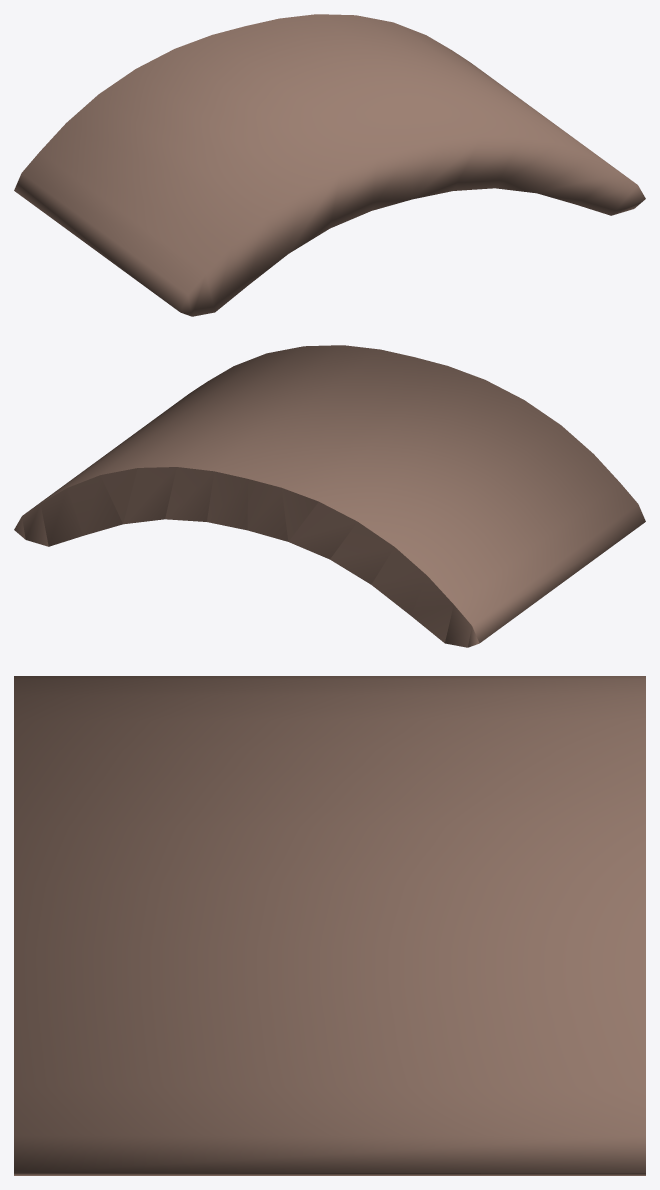
Rendered from shield.fbx.
3 views of the same model, one above another, from view 1: azimuth 30°, elevation 25°; view 2: azimuth 150°, elevation 25°; view 3: azimuth 270°, elevation 25° (orthographic). The views are drawn at different scales.
Visible parts, largest first — view 1: Shield; view 2: Shield; view 3: Shield.
Part boxes in pixels (left/top/right/bottom): Shield: left=14, top=14, right=645, bottom=316; Shield: left=14, top=345, right=645, bottom=647; Shield: left=14, top=676, right=645, bottom=1175.
Size of the model in its own units: 289 by 69.15 by 179.
